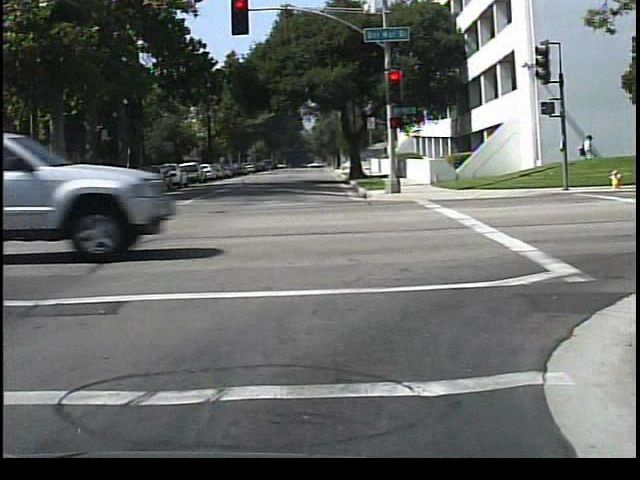person: (576, 127, 600, 182)
